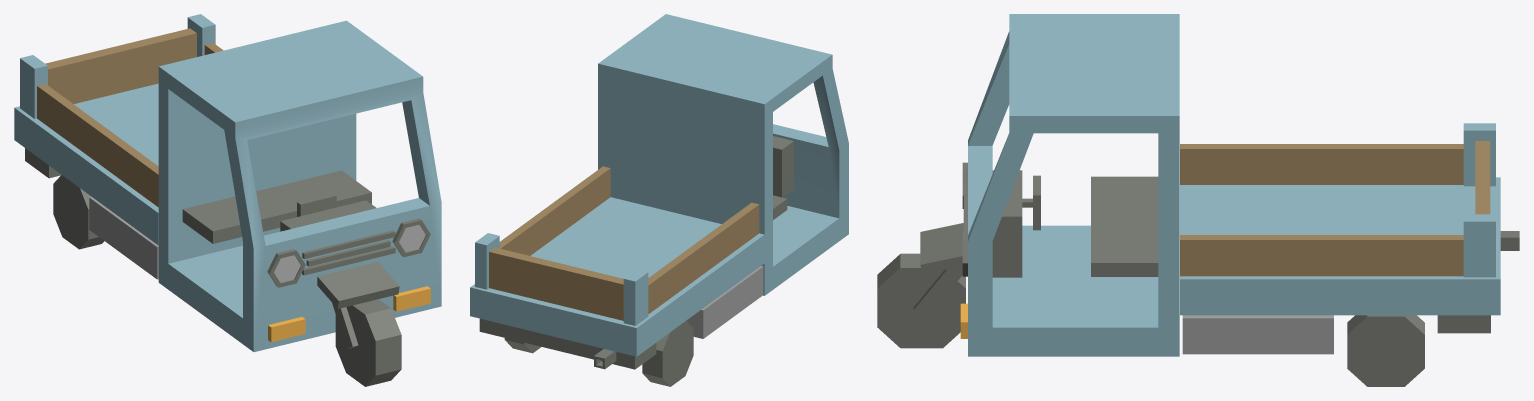
Rendered from carShader_test.fbx.
The picture shows the model from 3 angles, left to right: view 1: azimuth 30°, elevation 25°; view 2: azimuth 150°, elevation 25°; view 3: azimuth 270°, elevation 25°; orthographic projection. The views are drawn at different scales.
Visible parts, largest first — view 1: car2; view 2: car2; view 3: car2.
Part boxes in pixels (left/top/right/bottom): car2: left=14, top=14, right=441, bottom=386; car2: left=470, top=14, right=848, bottom=386; car2: left=877, top=14, right=1519, bottom=386.
Bounding box in the file's own units: 2.45 × 3.09 × 6.5.
